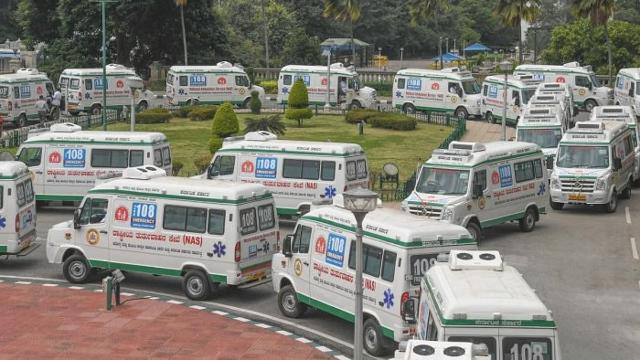ambulance: (47, 166, 278, 300), (404, 250, 561, 359), (362, 207, 476, 355), (199, 132, 368, 218), (402, 142, 548, 240), (16, 124, 172, 201), (550, 120, 635, 212), (514, 62, 613, 111), (59, 64, 154, 114), (165, 62, 265, 108), (277, 63, 378, 108), (392, 68, 481, 118), (590, 106, 639, 183), (0, 161, 39, 256), (516, 107, 568, 175), (0, 69, 54, 127), (394, 339, 491, 359), (528, 90, 574, 127), (506, 75, 540, 124), (536, 83, 578, 118), (614, 68, 639, 115)
